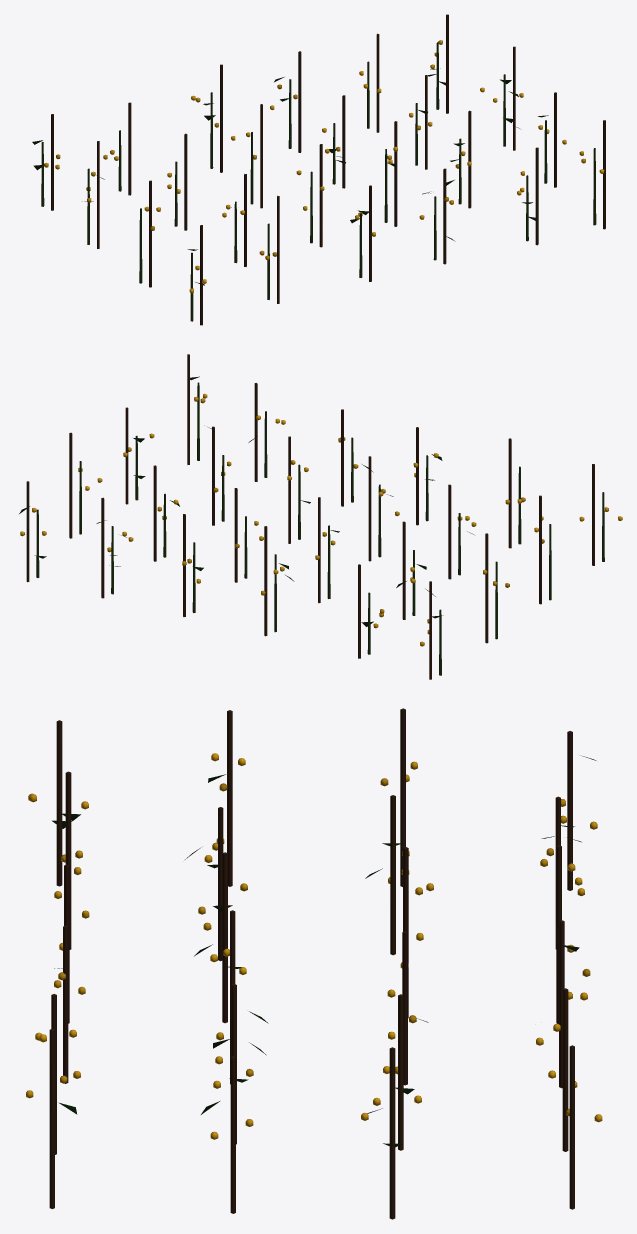
Rendered from fm_tomato_2.glb.
3 views of the same model, one above another, from view 1: azimuth 30°, elevation 25°; view 2: azimuth 150°, elevation 25°; view 3: azimuth 270°, elevation 25° (orthographic). The views are drawn at different scales.
Visible parts, largest first — view 1: fm_tomato_2; view 2: fm_tomato_2; view 3: fm_tomato_2.
Part boxes in pixels (box(x1,y1,x2,y2)): fm_tomato_2: box(32, 14, 605, 325); fm_tomato_2: box(19, 354, 622, 679); fm_tomato_2: box(26, 708, 602, 1219).
Size of the model in its own units: 3.81 by 0.8549 by 2.65.
